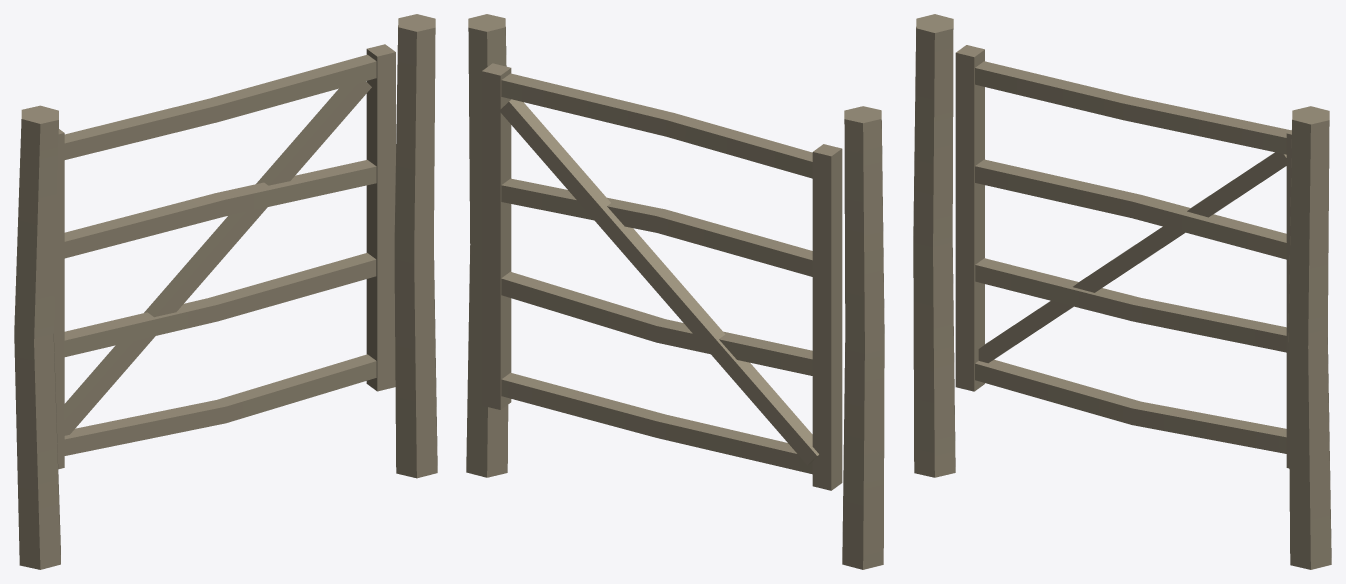
The model's file is FieldGate.fbx.
3 views of the same model, side by side, from view 1: azimuth 30°, elevation 25°; view 2: azimuth 150°, elevation 25°; view 3: azimuth 330°, elevation 25° (orthographic).
Visible parts, largest first — view 1: FieldGate; view 2: FieldGate; view 3: FieldGate.
Part boxes in pixels (x1,y1,x2,y2): FieldGate: (14,14,437,569); FieldGate: (466,14,884,569); FieldGate: (913,14,1331,569).
Bounding box in the file's own units: 1.12 × 1.13 × 0.1424.
